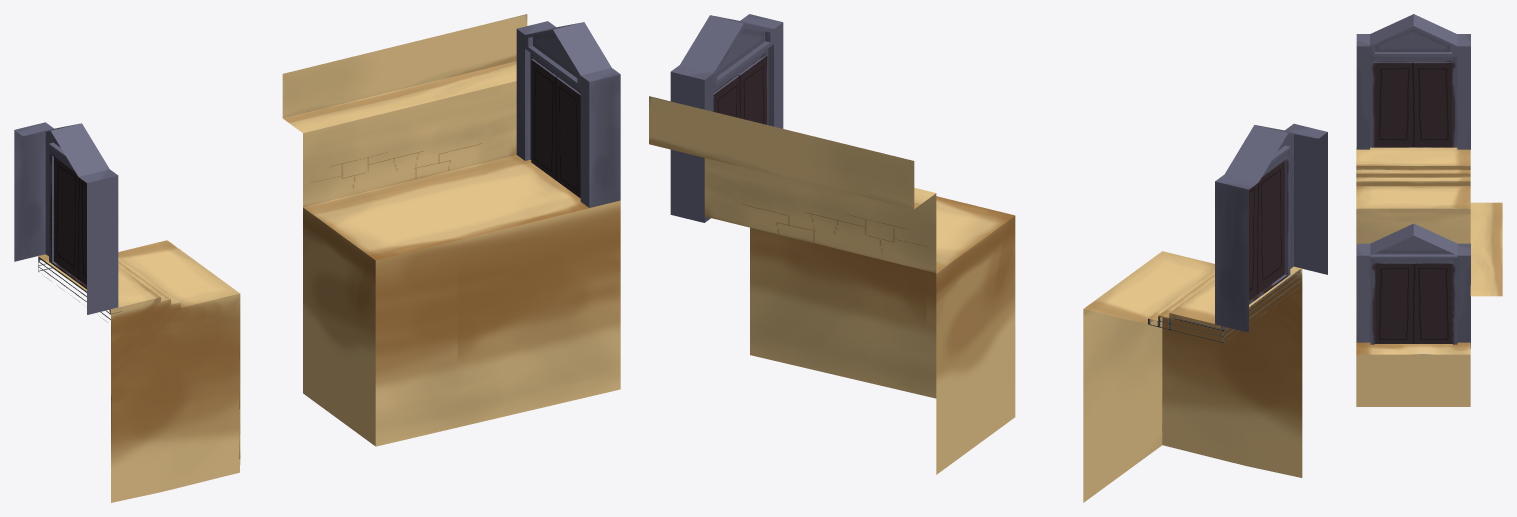
Rendered from ruin2B.fbx.
3 views of the same model, side by side, from view 1: azimuth 30°, elevation 25°; view 2: azimuth 150°, elevation 25°; view 3: azimuth 270°, elevation 25° (orthographic). The views are drawn at different scales.
Visible parts, largest first — view 1: Plane, Pintu, Pintu.001; view 2: Plane, Pintu.001, Pintu; view 3: Plane, Pintu.001, Pintu.
Part boxes in pixels (x1=…): Plane: x1=38, y1=14, x2=620, y2=502; Pintu: x1=516, y1=21, x2=620, y2=207; Pintu.001: x1=14, y1=122, x2=118, y2=314; Plane: x1=649, y1=96, x2=1302, y2=502; Pintu.001: x1=1215, y1=123, x2=1327, y2=332; Pintu: x1=670, y1=14, x2=783, y2=222; Plane: x1=1356, y1=147, x2=1502, y2=406; Pintu.001: x1=1356, y1=14, x2=1470, y2=149; Pintu: x1=1356, y1=223, x2=1470, y2=348.
Size of the model in its own units: 9820 by 6362 by 2970.
2 materials, 2 textured.
